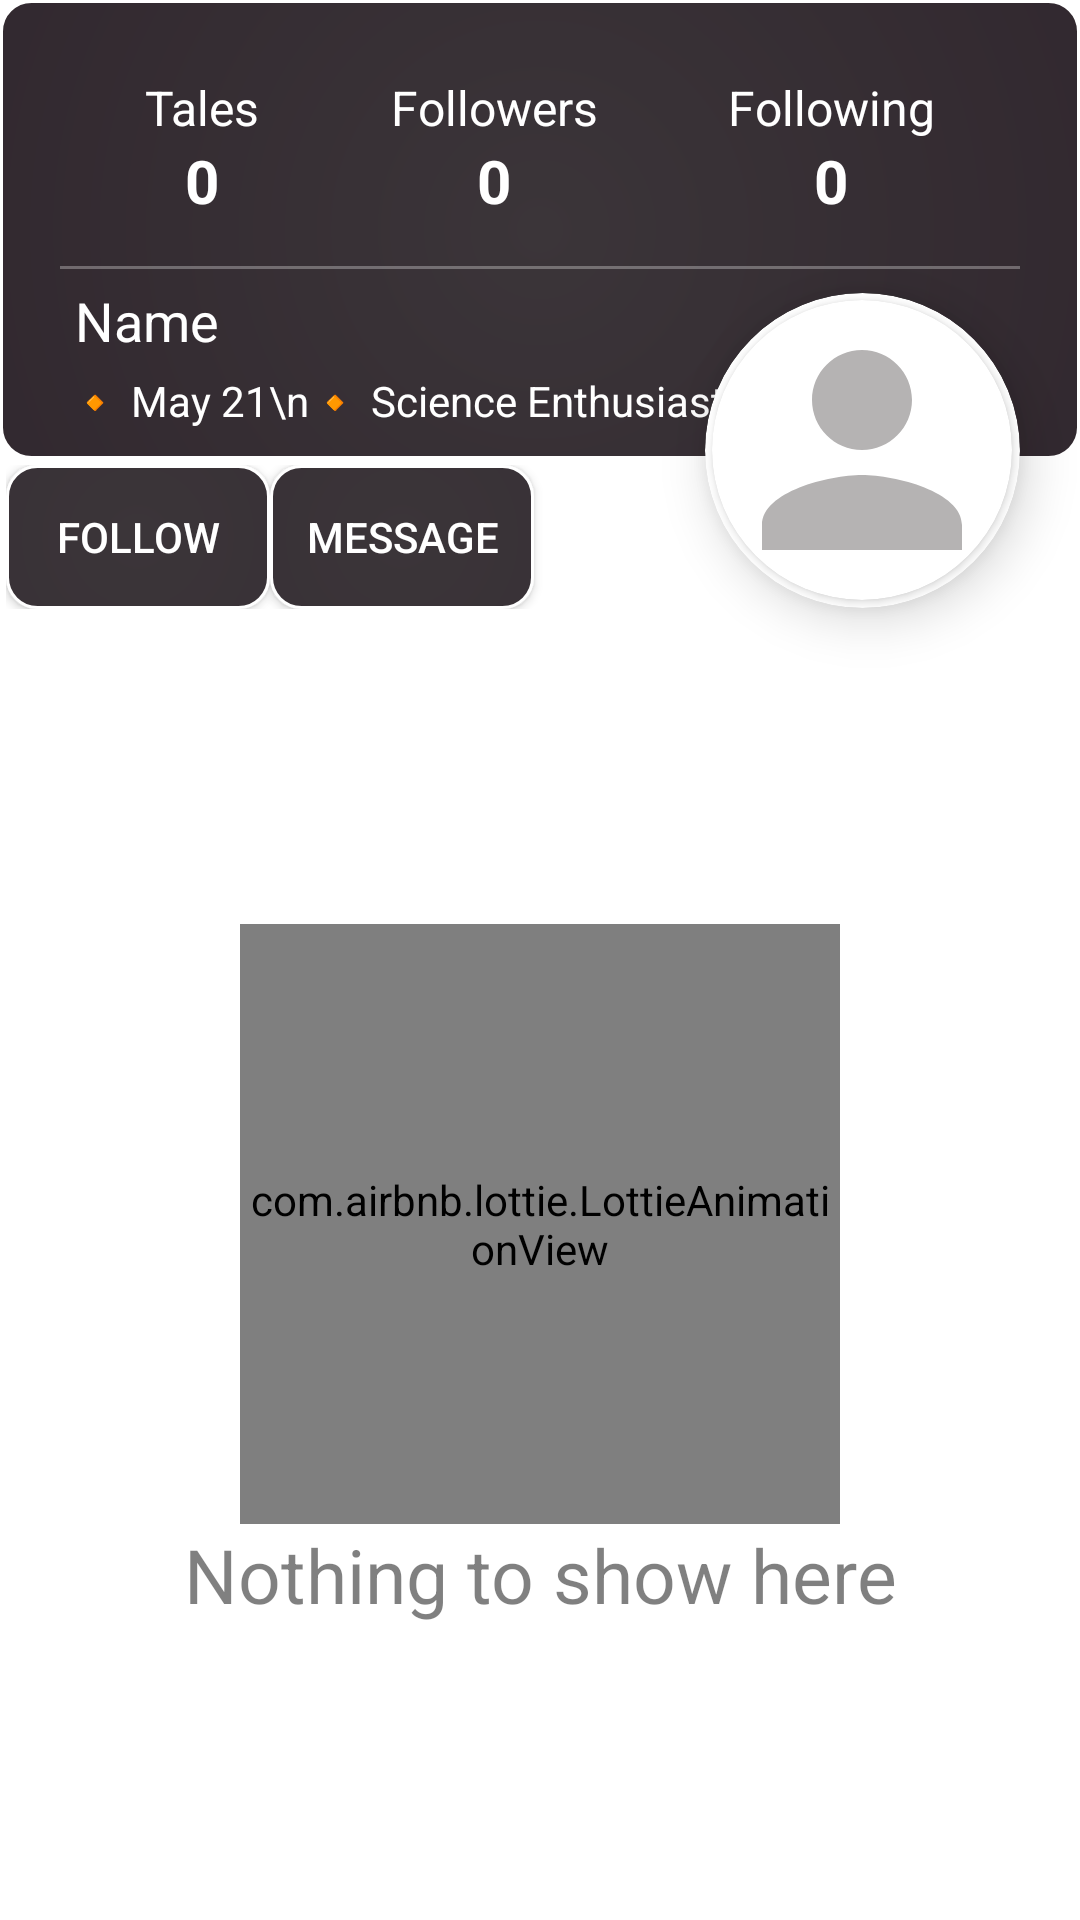

Point at icon controls on the screen. Image size 1080w x 1920h, points as (x=x, y=y).
profile: (x=862, y=450)
